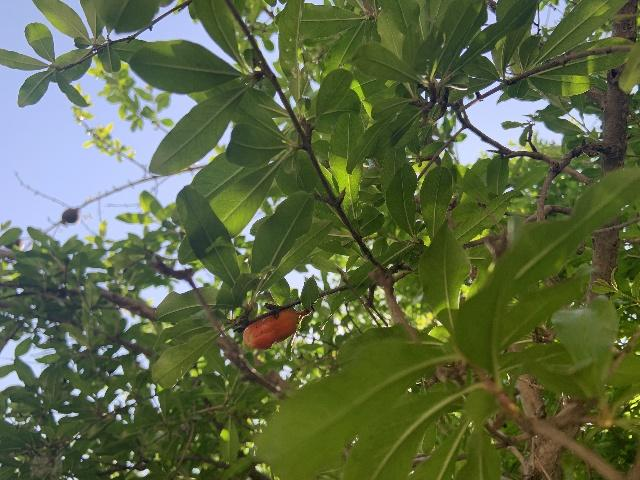bud: (243, 310, 298, 350)
